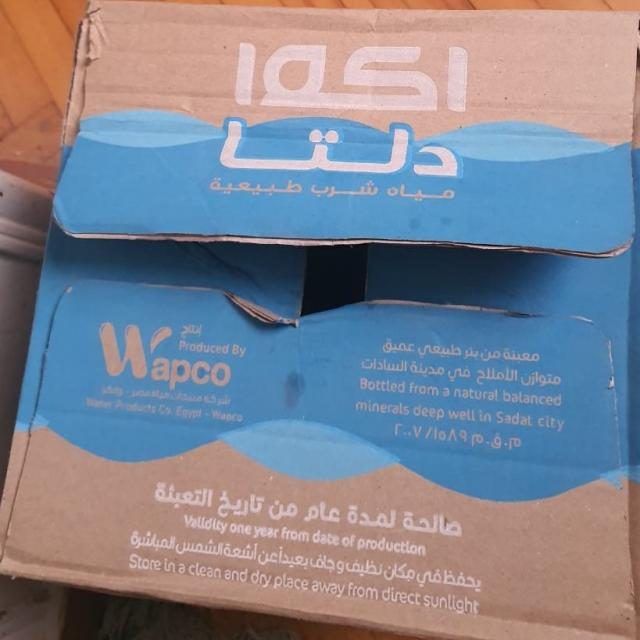cardboard: (23, 4, 640, 640)
